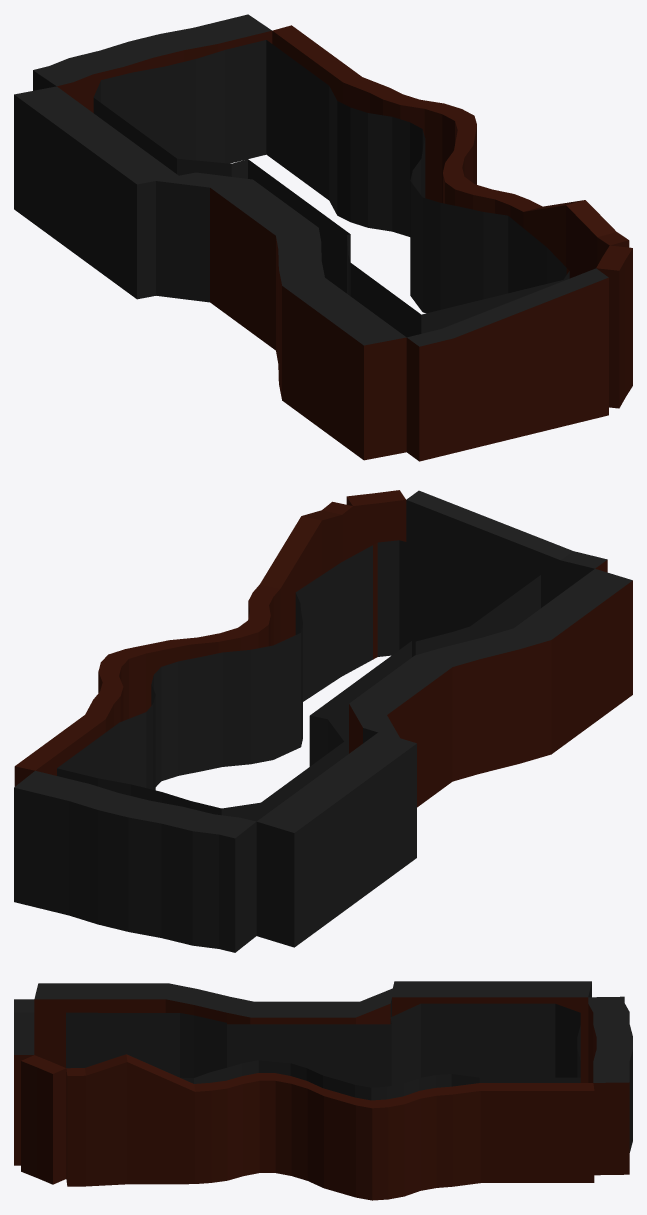
File: trackv2walls.obj
The picture shows the model from 3 angles, top to bottom: view 1: azimuth 30°, elevation 25°; view 2: azimuth 150°, elevation 25°; view 3: azimuth 270°, elevation 25°; orthographic projection. The views are drawn at different scales.
Visible parts, largest first — view 1: Grid.002; view 2: Grid.002; view 3: Grid.002.
Part boxes in pixels (x1,y1,x2,y2): Grid.002: (14,14,632,461); Grid.002: (14,490,632,952); Grid.002: (14,981,632,1200).
Bounding box in the file's own units: 940 × 422 × 1938.
